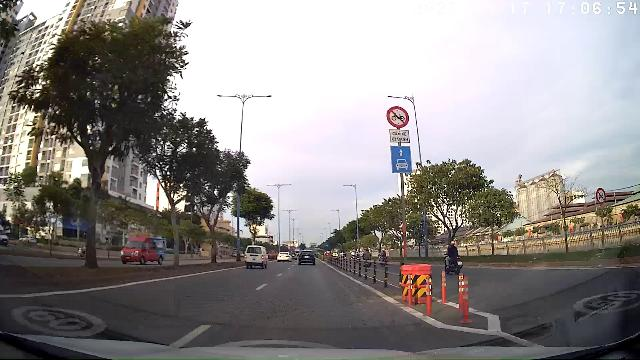103a-cam-oto: (596, 187, 606, 205)
